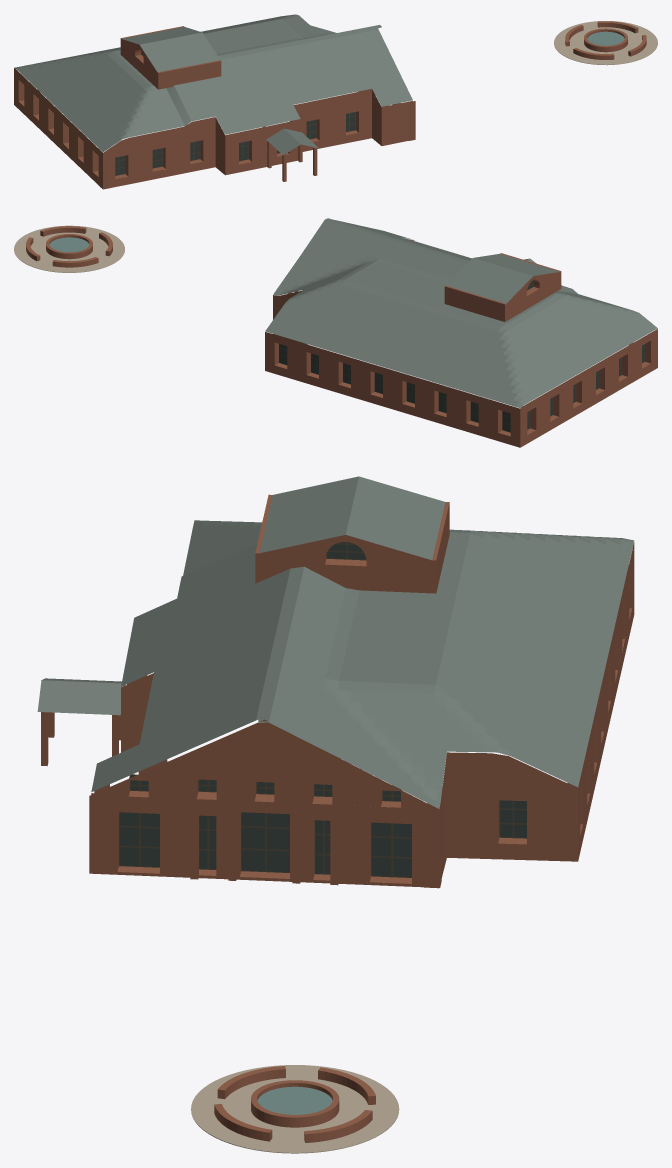
The model's file is goose-creek-municipal-center-near.glb.
3 renders of one model, top to bottom at view 1: azimuth 30°, elevation 25°; view 2: azimuth 150°, elevation 25°; view 3: azimuth 270°, elevation 25°, orthographic. The views are drawn at different scales.
Visible parts, largest first — view 1: goose-creek-municipal-center-0-roof, goose-creek-municipal-center-0-brick, goose-creek-municipal-center-0-stone, goose-creek-municipal-center-0-glass, goose-creek-municipal-center-0-frame, goose-creek-municipal-center-0-water; view 2: goose-creek-municipal-center-0-roof, goose-creek-municipal-center-0-brick, goose-creek-municipal-center-0-stone, goose-creek-municipal-center-0-glass, goose-creek-municipal-center-0-frame, goose-creek-municipal-center-0-water; view 3: goose-creek-municipal-center-0-roof, goose-creek-municipal-center-0-brick, goose-creek-municipal-center-0-glass, goose-creek-municipal-center-0-stone, goose-creek-municipal-center-0-frame, goose-creek-municipal-center-0-water.
Part boxes in pixels (box(x1,y1,x2,y2)): goose-creek-municipal-center-0-roof: box(14, 14, 412, 154); goose-creek-municipal-center-0-brick: box(14, 21, 646, 189); goose-creek-municipal-center-0-stone: box(554, 21, 657, 65); goose-creek-municipal-center-0-glass: box(115, 52, 355, 175); goose-creek-municipal-center-0-frame: box(115, 52, 355, 175); goose-creek-municipal-center-0-water: box(587, 31, 624, 45); goose-creek-municipal-center-0-roof: box(265, 218, 657, 407); goose-creek-municipal-center-0-brick: box(26, 226, 657, 447); goose-creek-municipal-center-0-stone: box(14, 225, 124, 272); goose-creek-municipal-center-0-glass: box(279, 280, 644, 431); goose-creek-municipal-center-0-frame: box(279, 282, 644, 432); goose-creek-municipal-center-0-water: box(49, 237, 89, 252); goose-creek-municipal-center-0-roof: box(37, 476, 634, 808); goose-creek-municipal-center-0-brick: box(41, 494, 634, 1142); goose-creek-municipal-center-0-glass: box(120, 542, 568, 877); goose-creek-municipal-center-0-stone: box(191, 1065, 399, 1153); goose-creek-municipal-center-0-frame: box(119, 542, 569, 877); goose-creek-municipal-center-0-water: box(257, 1086, 332, 1114).
Size of the model in its own units: 76.15 by 12.3 by 34.38.
